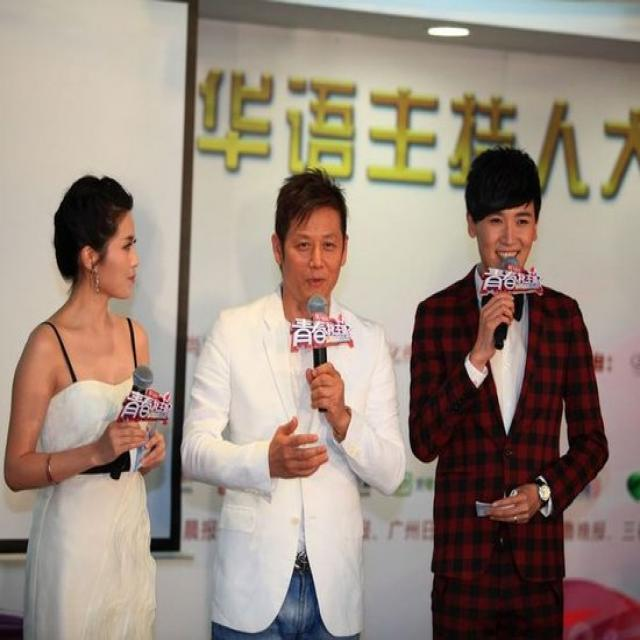nomask: (281, 208, 343, 296), (480, 193, 536, 272), (90, 213, 140, 297)
